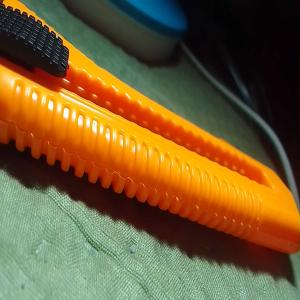estilete: (0, 1, 300, 257)
